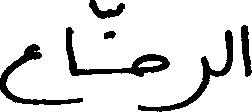X: (0, 39, 41, 109), (170, 51, 208, 111), (132, 49, 168, 111), (65, 22, 76, 108), (241, 20, 251, 81), (227, 25, 231, 77)
